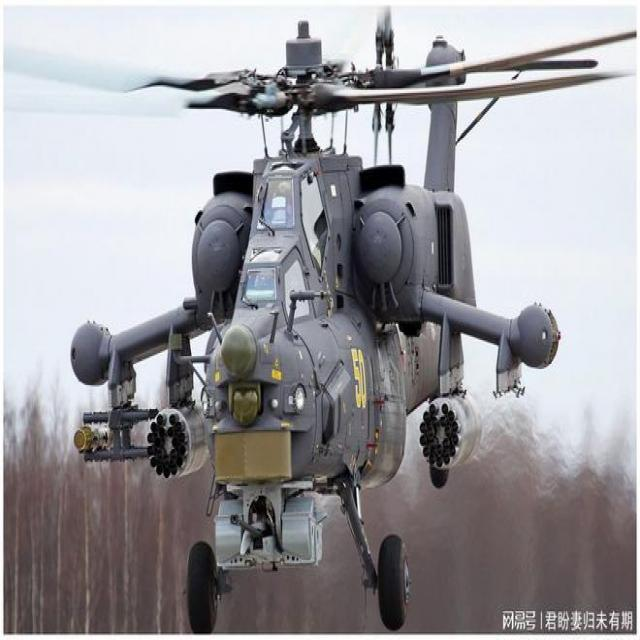MIL_HELO: (35, 11, 640, 640)
